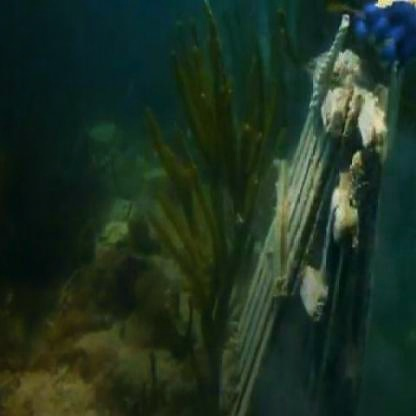misc: (273, 84, 392, 406)
